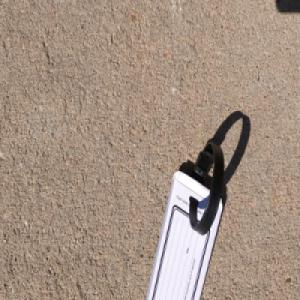LuggageTag: (142, 139, 227, 300)
